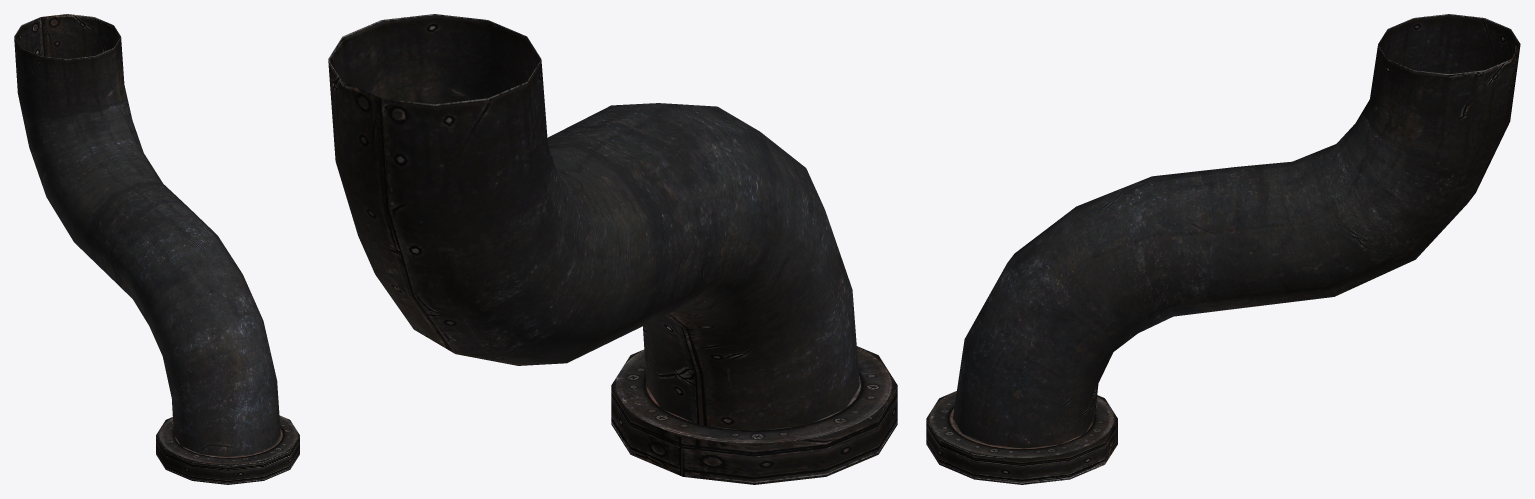
File: tesla_props_pipes_01_sturn.dae
3 renders of one model, left to right at view 1: azimuth 30°, elevation 25°; view 2: azimuth 150°, elevation 25°; view 3: azimuth 270°, elevation 25°, orthographic. The views are drawn at different scales.
Parts seen in each view (by area): view 1: polySurface398; view 2: polySurface398; view 3: polySurface398.
Boxes of the visible parts, bbox=[...] form: polySurface398: bbox=[14, 14, 299, 484]; polySurface398: bbox=[328, 14, 897, 484]; polySurface398: bbox=[926, 14, 1520, 484].
Size of the model in its own units: 1.34 by 3.1 by 4.17.
